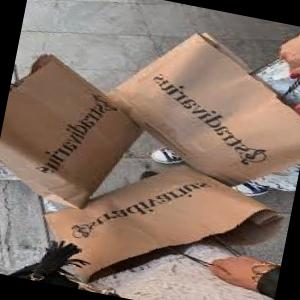stradivarius: (131, 48, 286, 194), (48, 166, 235, 256), (21, 81, 123, 191)
